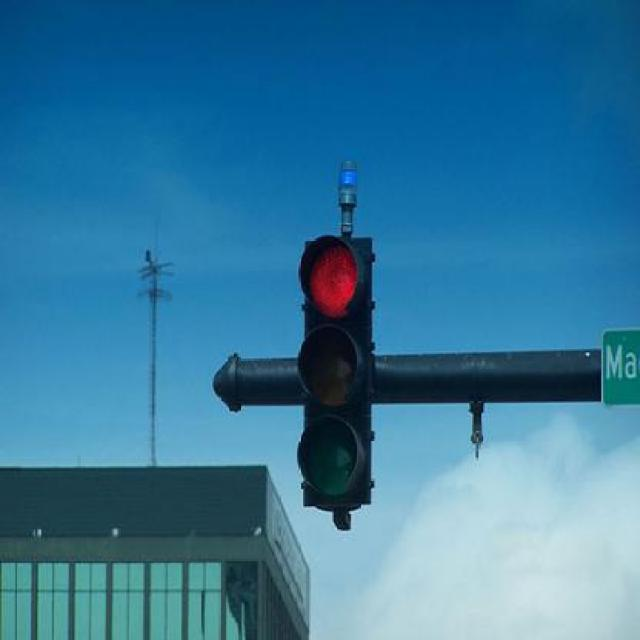traffic light: (296, 236, 374, 516)
